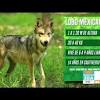Lobo: (1, 15, 58, 84)
